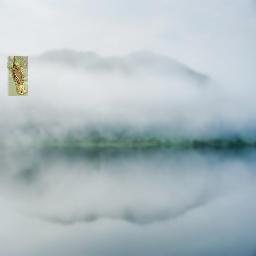Sparrow: (7, 56, 28, 96)
